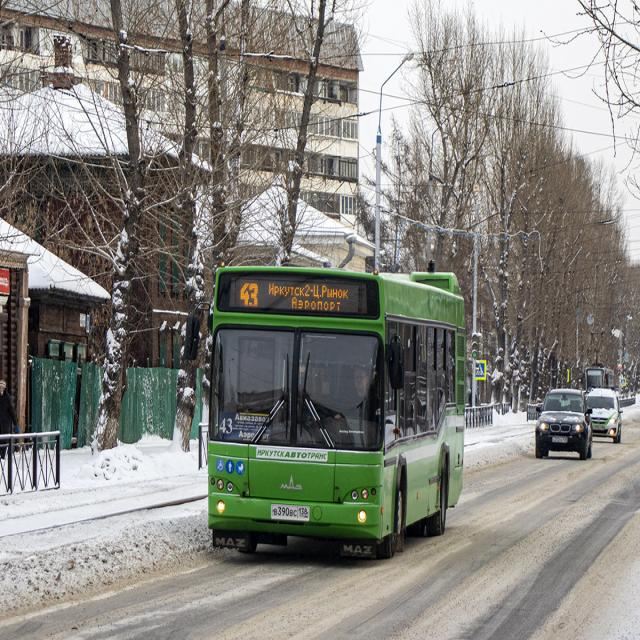number-of-bus: (240, 279, 261, 311), (219, 412, 235, 438)
